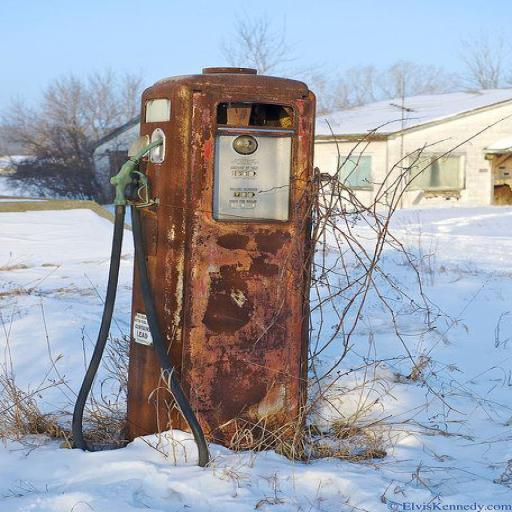segmentation: (112, 67, 317, 455), (485, 146, 511, 205)
